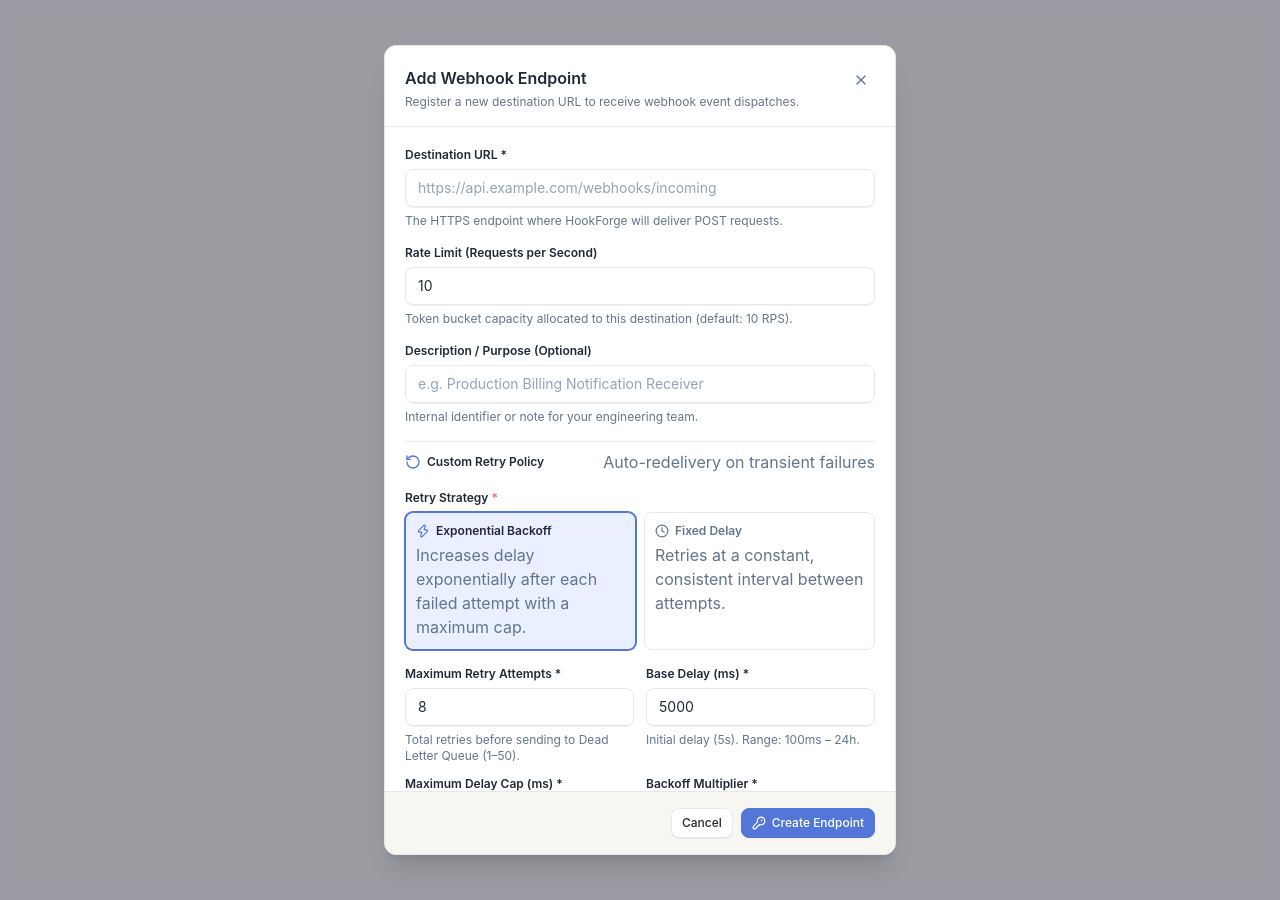
Phase 2, Task 3: Custom Retry Policies (Frontend) › 4. CreateEndpointModal with Retry Policy › displays validation errors when retry attempts are invalid
The width and height of the screenshot is (1280, 900).
Type "https://webhook.customer.org/events" into the field labelled "Destination URL *" at (640, 188), box x1=405 y1=169 x2=875 y2=207
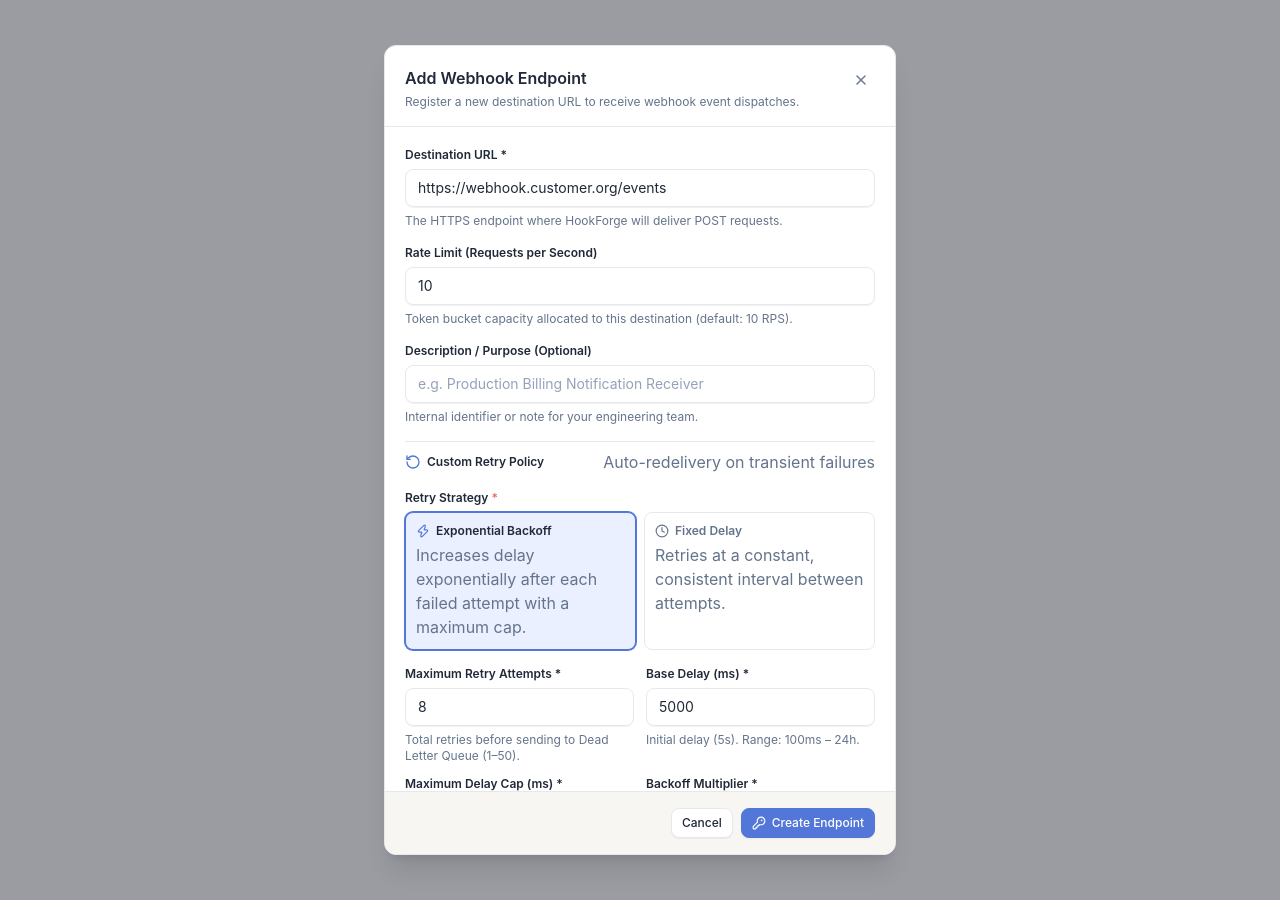
Replace the text in the number field labelled "Maximum Retry Attempts *" with "99" at (520, 707), box x1=405 y1=688 x2=634 y2=726
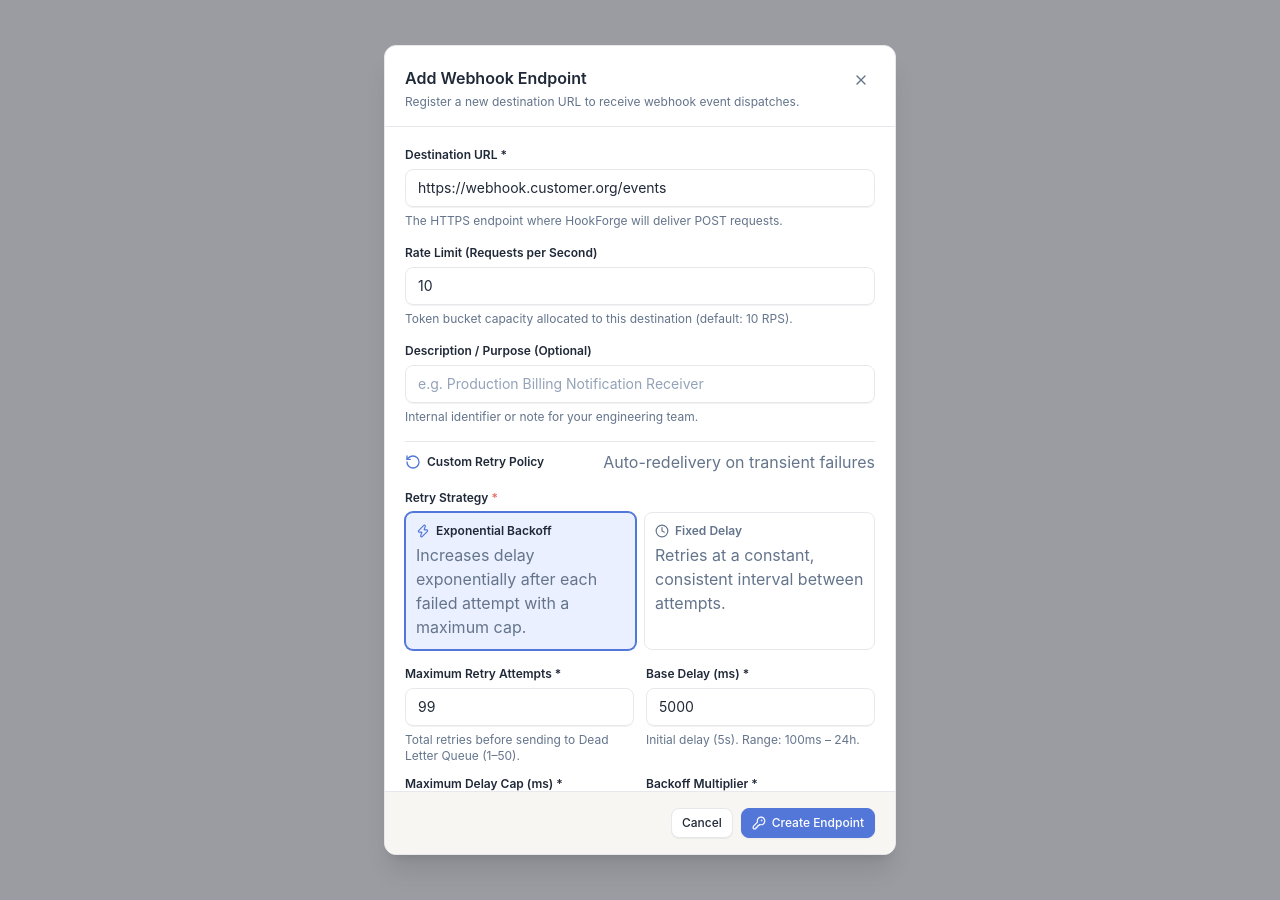
Click the button "Create Endpoint" at (808, 823), box x1=741 y1=808 x2=875 y2=838
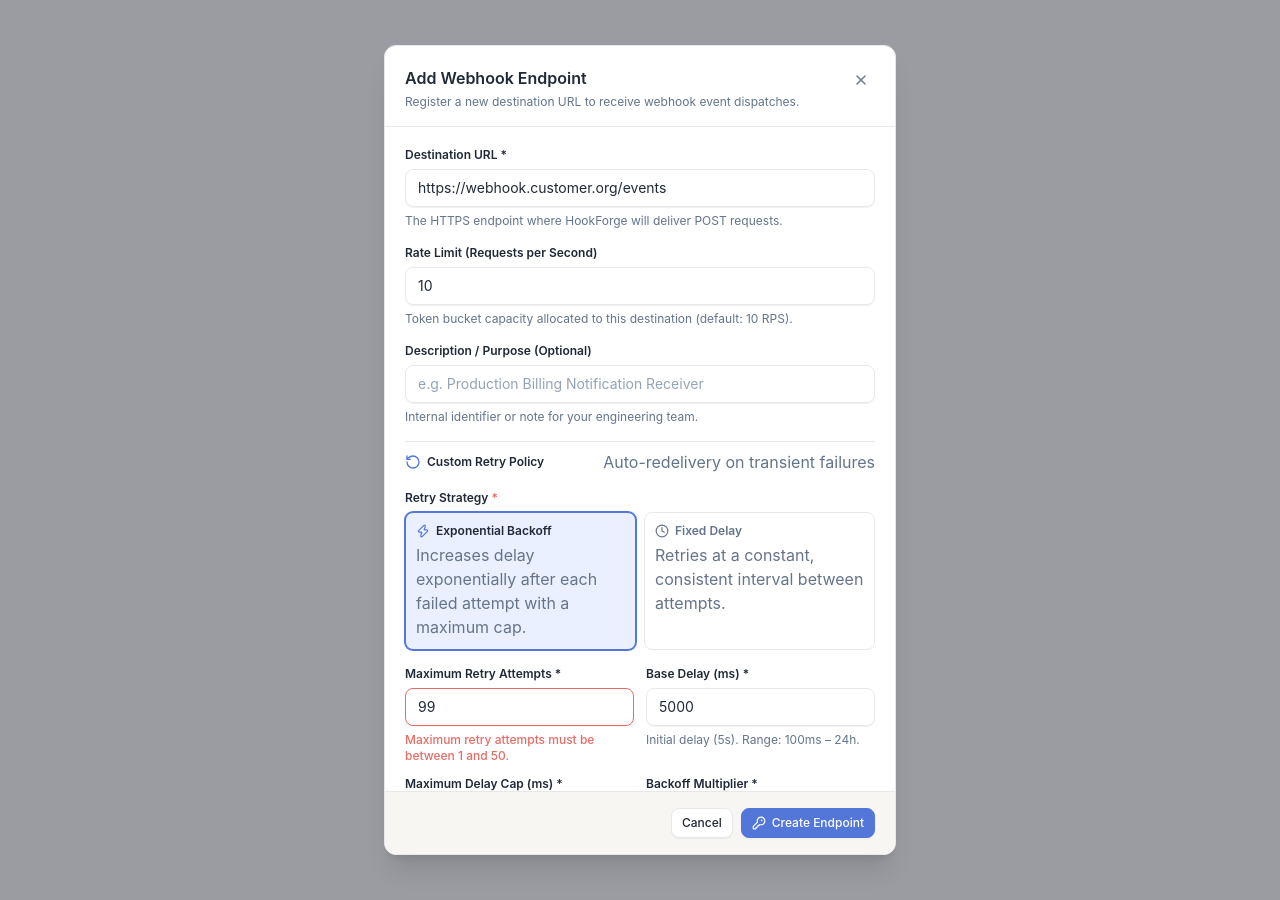
Expected: the text "Maximum retry attempts must be between 1 and 50." is shown, x1=405 y1=732 x2=594 y2=763
